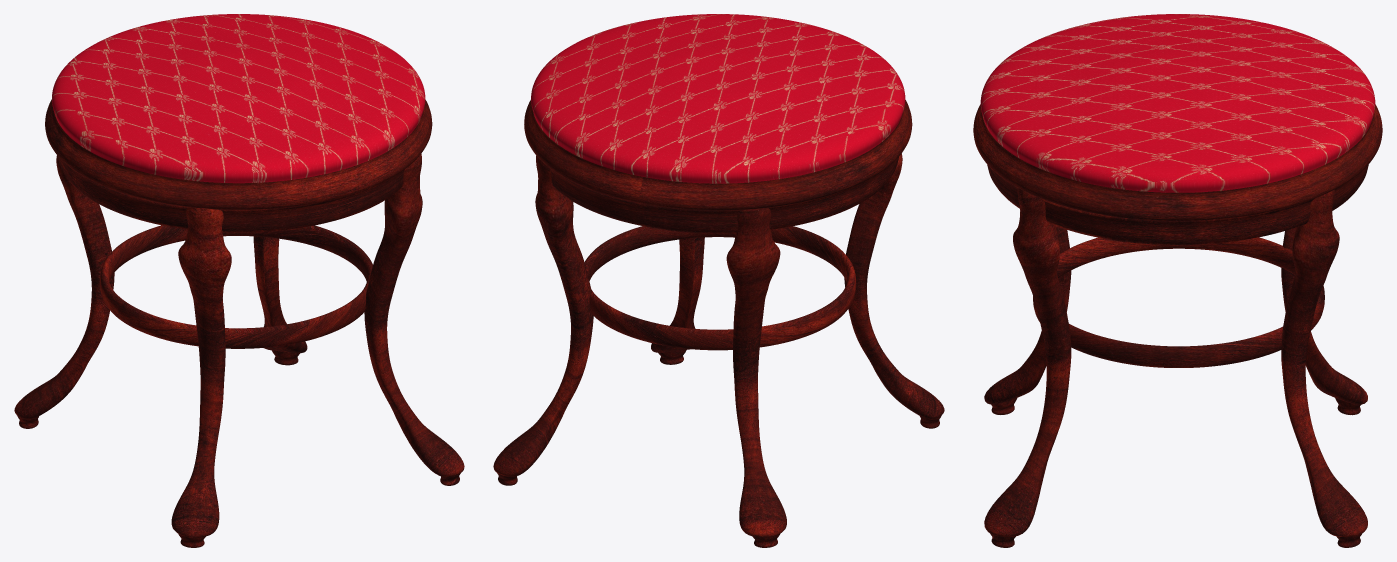
The model's file is luxuriously-stool.fbx.
3 renders of one model, left to right at view 1: azimuth 30°, elevation 25°; view 2: azimuth 150°, elevation 25°; view 3: azimuth 270°, elevation 25°, orthographic. The views are drawn at different scales.
Visible parts, largest first — view 1: Cube.003; view 2: Cube.003; view 3: Cube.003.
Boxes of the visible parts, x1,y1,x2,y2 form: Cube.003: (14, 14, 464, 547); Cube.003: (493, 14, 944, 547); Cube.003: (973, 14, 1382, 547).
Bounding box in the file's own units: 45.92 × 49.63 × 45.92.
